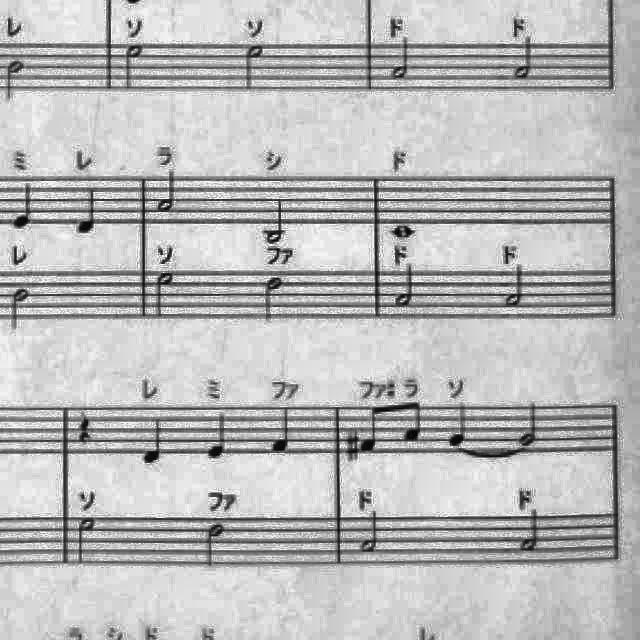Diez: (342, 428, 362, 464)
Eighth-note: (357, 403, 383, 457), (402, 398, 426, 447)
Full-note: (388, 218, 419, 242)
Half-note: (260, 194, 292, 246), (72, 509, 100, 566), (120, 40, 148, 96), (151, 266, 179, 322), (499, 260, 529, 312), (238, 42, 266, 96), (391, 260, 421, 310), (511, 35, 541, 85), (355, 506, 385, 556), (519, 505, 549, 555), (6, 284, 34, 336), (389, 33, 418, 83), (0, 55, 28, 105), (261, 272, 287, 324), (202, 517, 228, 569), (518, 399, 544, 449), (155, 166, 181, 214)
Quarter-note: (138, 413, 170, 469), (9, 178, 39, 234), (204, 408, 234, 462), (268, 402, 298, 456), (72, 183, 101, 237), (446, 398, 474, 449)
Quarter-rest: (72, 404, 98, 448)
